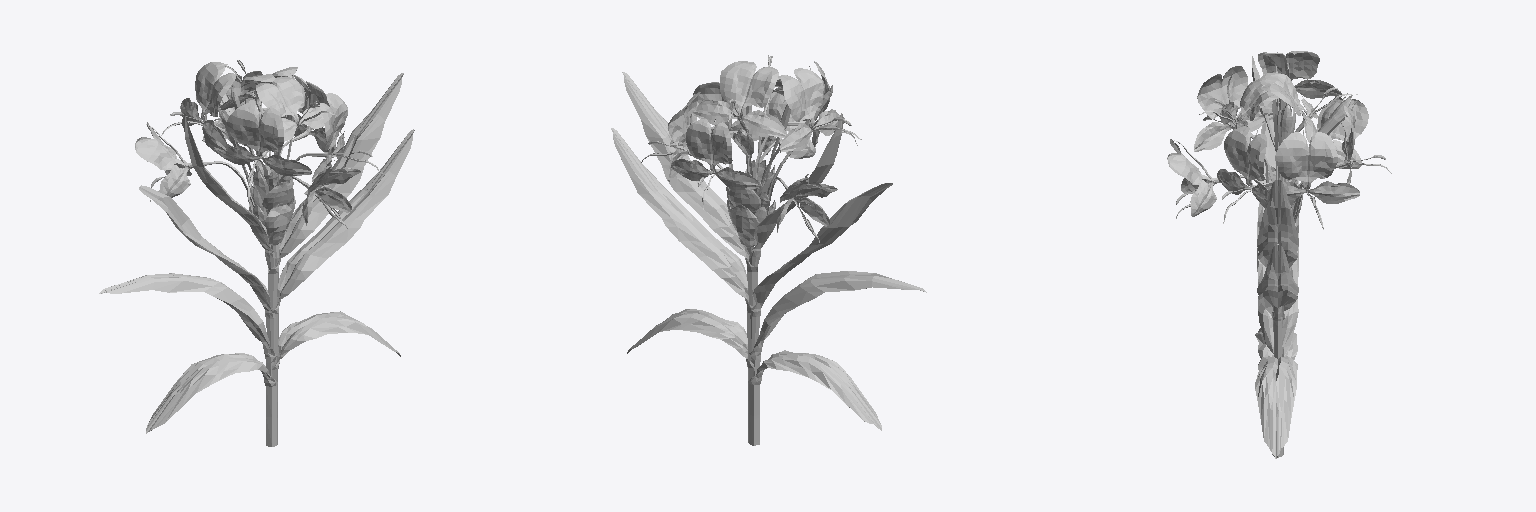
The model's file is Hedychium coronarium Koenig_Flower.obj.
The picture shows the model from 3 angles: view 1: azimuth 30°, elevation 25°; view 2: azimuth 150°, elevation 25°; view 3: azimuth 270°, elevation 25°; orthographic projection.
Visible parts, largest first — view 1: Hedychium_coronarium_Koenig_Flower; view 2: Hedychium_coronarium_Koenig_Flower; view 3: Hedychium_coronarium_Koenig_Flower.
Boxes of the visible parts, <box> form: Hedychium_coronarium_Koenig_Flower: <box>99,60,414,446</box>; Hedychium_coronarium_Koenig_Flower: <box>611,55,926,445</box>; Hedychium_coronarium_Koenig_Flower: <box>1167,51,1391,458</box>.
Size of the model in its own units: 308 by 356 by 190.